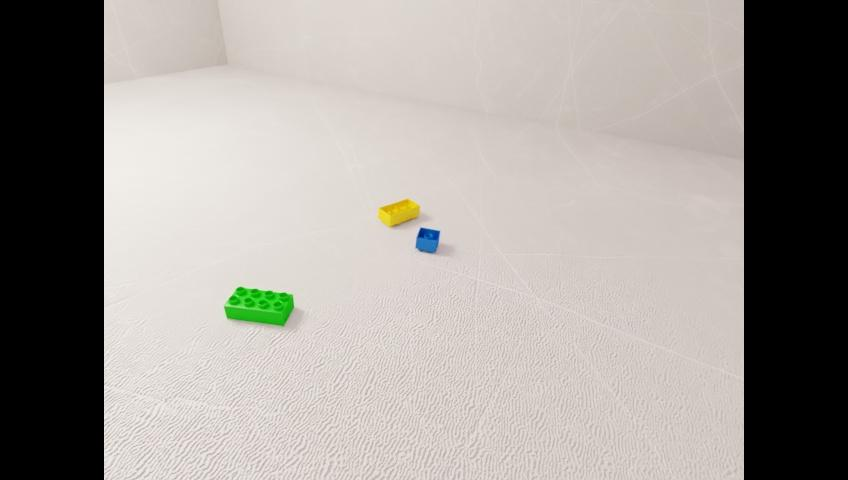2x2_blue: (415, 226, 439, 252)
4x2_green: (223, 286, 293, 325)
4x2_yellow: (378, 197, 419, 226)
